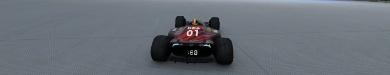Car: (150, 15, 233, 65)
grass: (0, 0, 389, 74)
